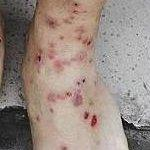Fleas: (40, 46, 68, 75), (80, 106, 103, 130), (72, 78, 86, 106), (74, 30, 94, 47), (68, 1, 82, 25), (33, 49, 44, 70), (47, 92, 71, 101), (45, 16, 57, 29), (76, 51, 88, 63)
